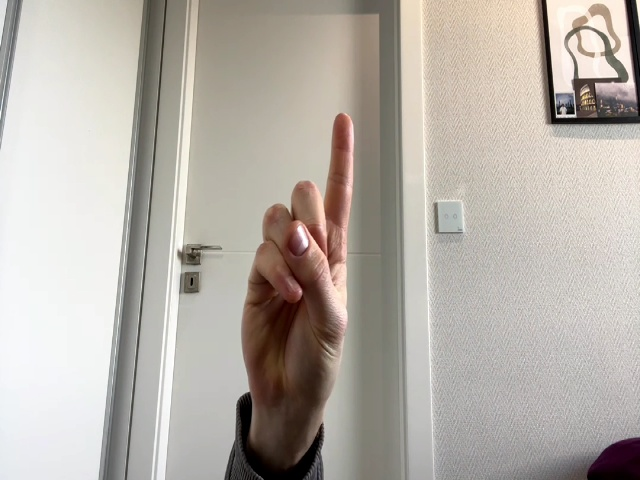Z: (241, 113, 354, 410)
